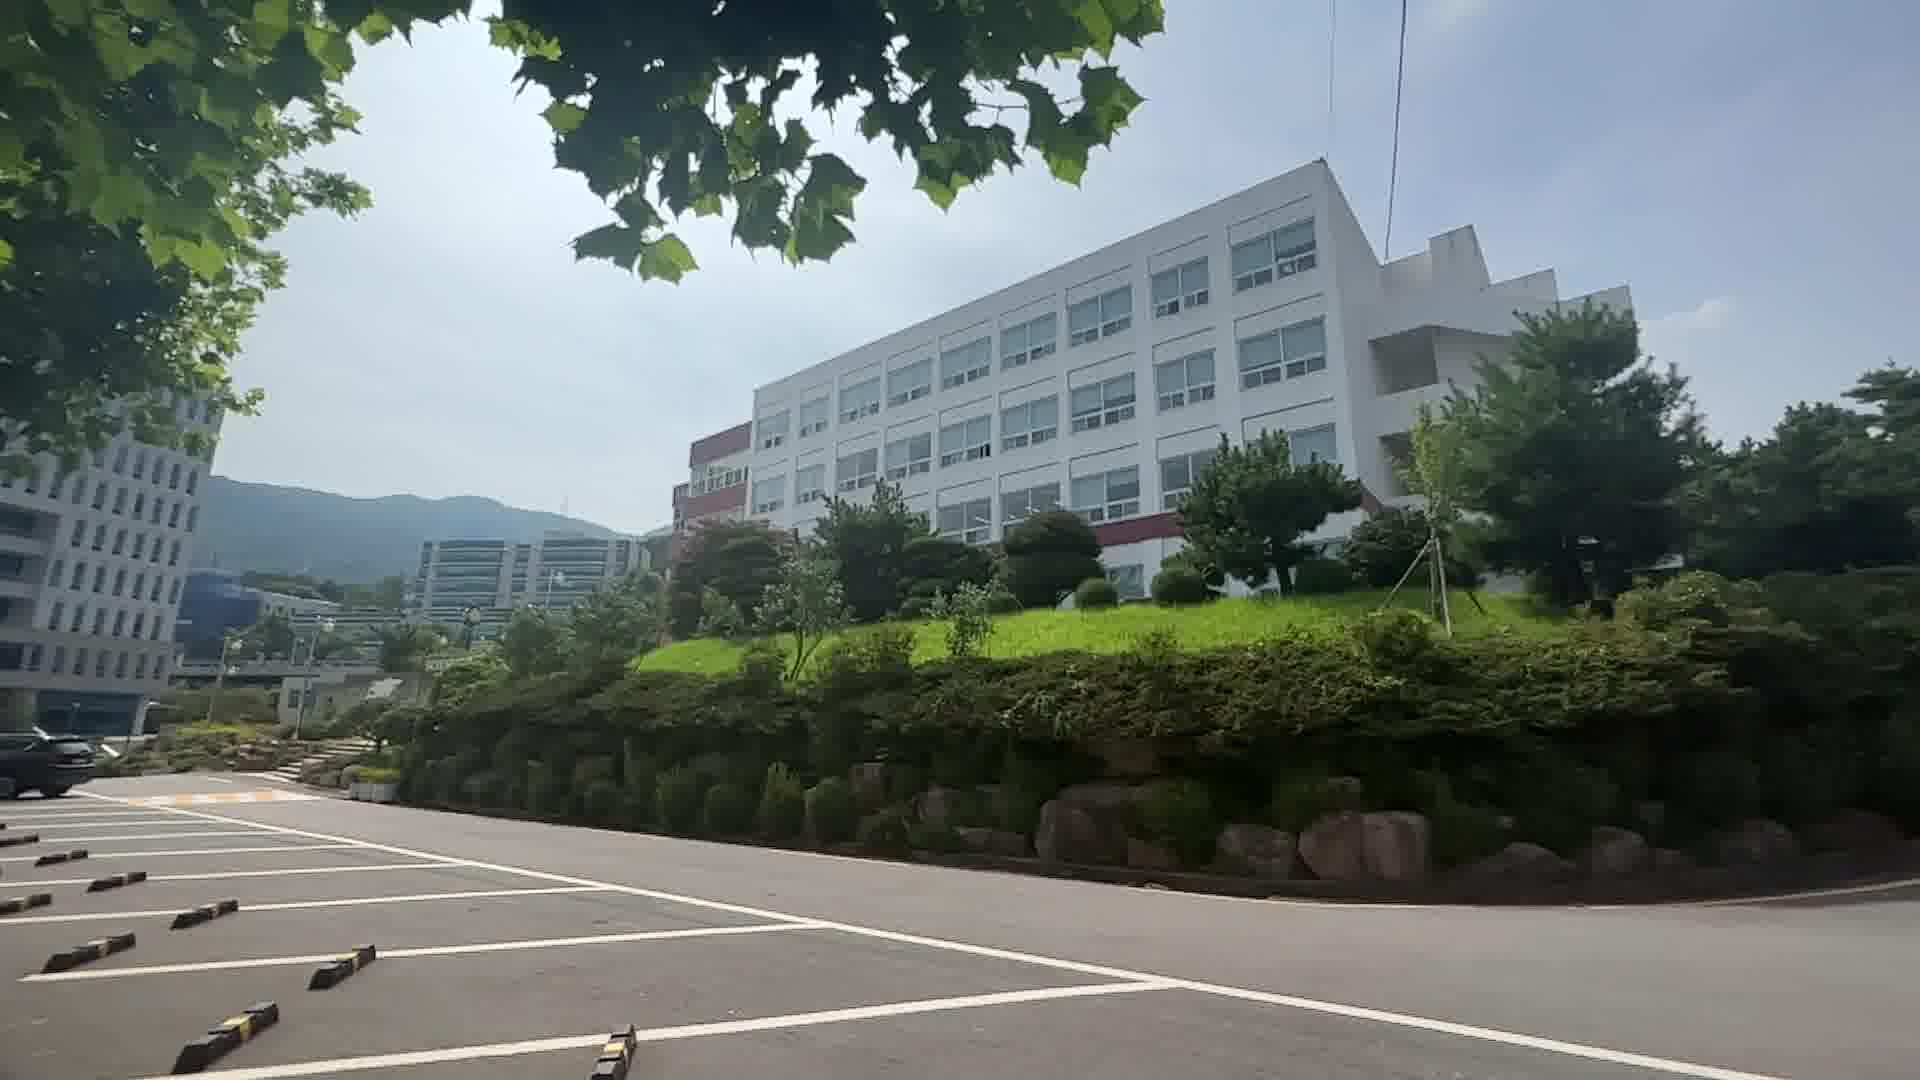building: (652, 267, 1405, 508)
